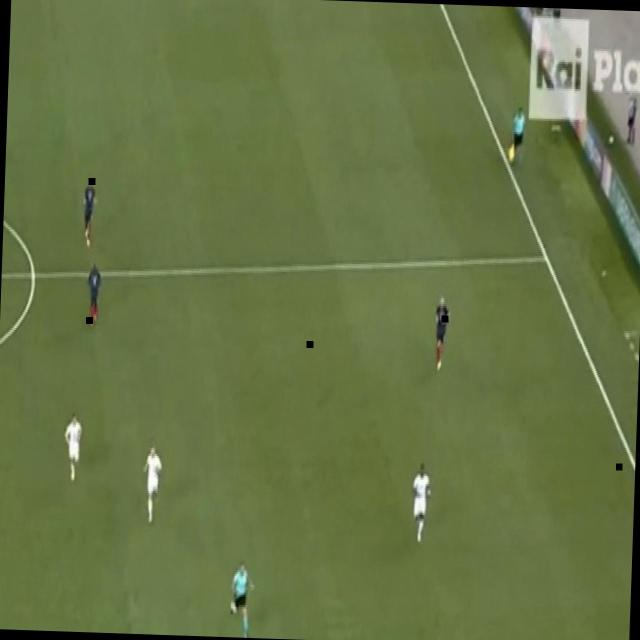player-white: (228, 557, 256, 638), (410, 462, 432, 545), (142, 444, 162, 524), (62, 413, 84, 482), (80, 176, 100, 248), (433, 295, 450, 371), (507, 105, 527, 169), (85, 262, 102, 326)
